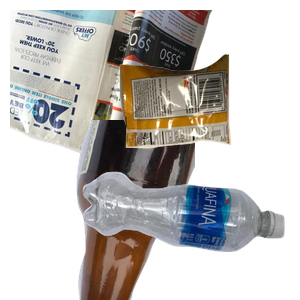glass: (60, 120, 300, 300)
paper: (10, 10, 215, 186)
plastic: (80, 169, 300, 300)
trash: (117, 52, 300, 193)
